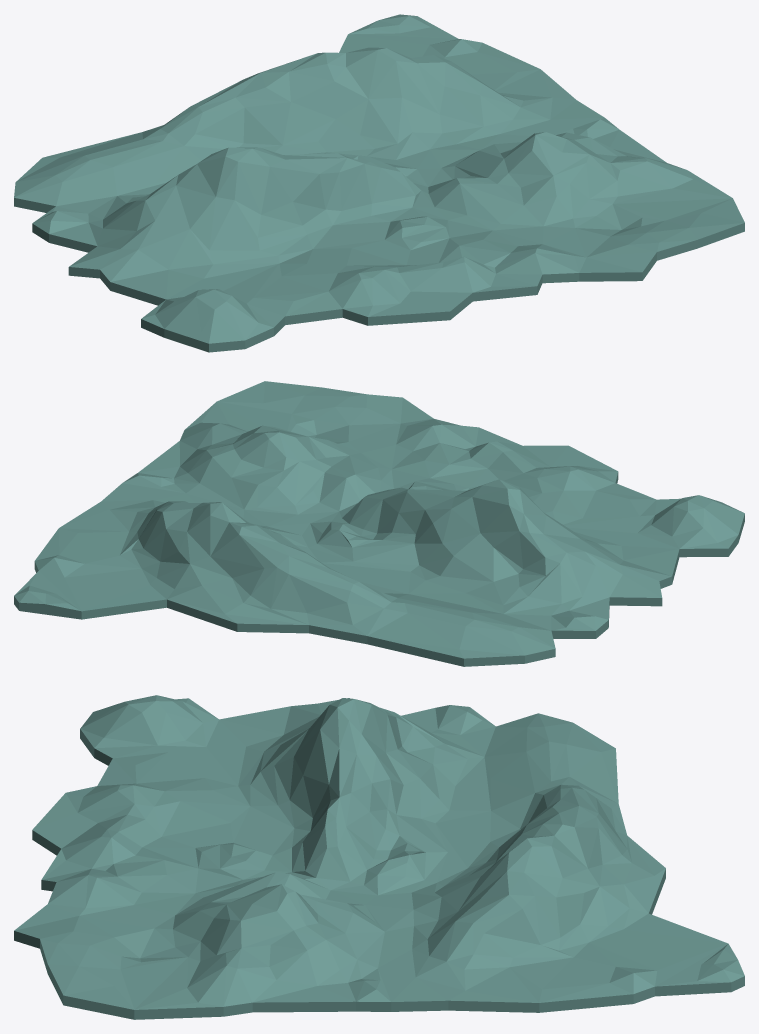
File: delh_terr_01_02.fbx
3 views of the same model, one above another, from view 1: azimuth 30°, elevation 25°; view 2: azimuth 150°, elevation 25°; view 3: azimuth 270°, elevation 25° (orthographic). The views are drawn at different scales.
Visible parts, largest first — view 1: delh_terr_01_02; view 2: delh_terr_01_02; view 3: delh_terr_01_02.
Boxes of the visible parts, x1,y1,x2,y2 form: delh_terr_01_02: (14, 14, 744, 352); delh_terr_01_02: (14, 381, 744, 666); delh_terr_01_02: (14, 695, 744, 1019).
Bounding box in the file's own units: 15078 × 2219 × 14927.
